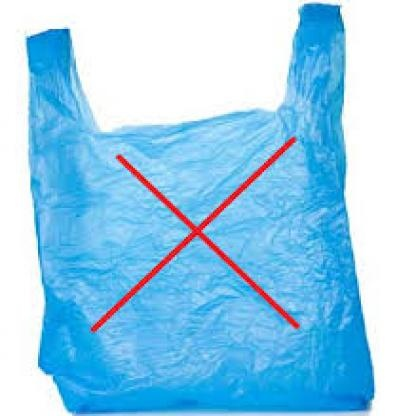trash: (27, 4, 373, 411)
